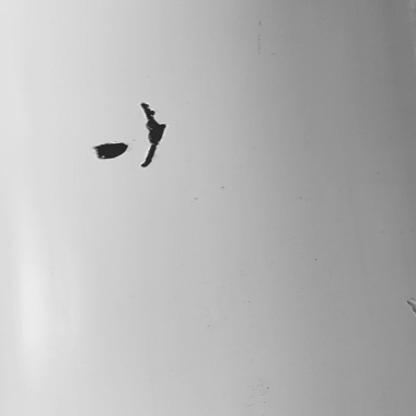kongdong: (137, 101, 169, 170), (91, 142, 130, 159)
sunshang: (405, 296, 416, 318)
